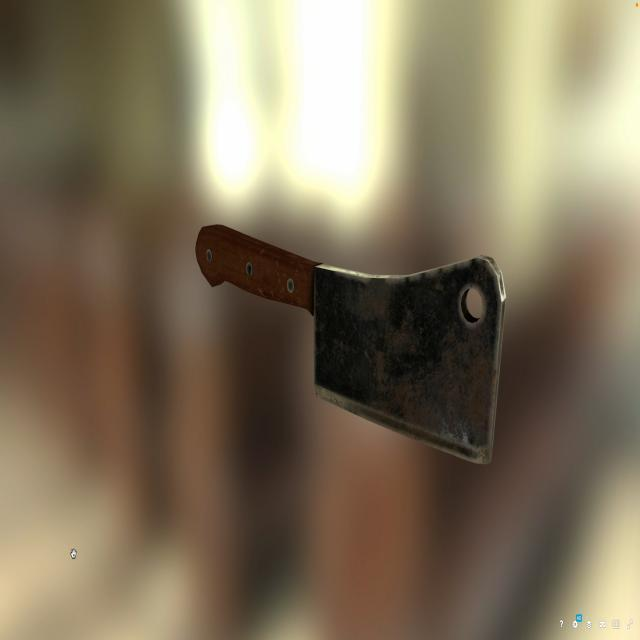cleaver: (198, 229, 501, 462)
